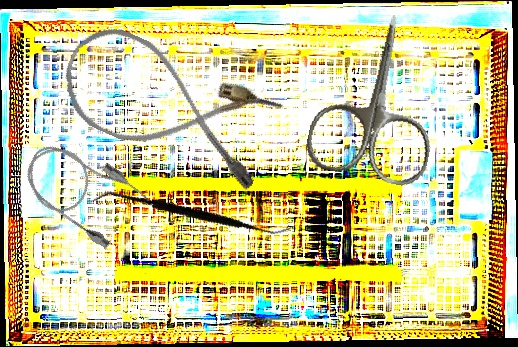Cannula: (48, 15, 289, 196), (12, 126, 154, 255)
Iris Scissors: (302, 3, 456, 190)
Spatula Surgical: (91, 136, 292, 293)
